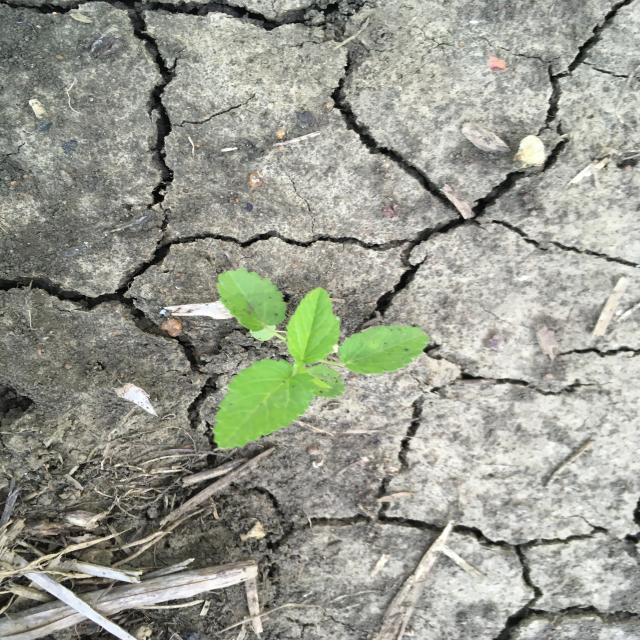PricklySida: (212, 267, 434, 451)
